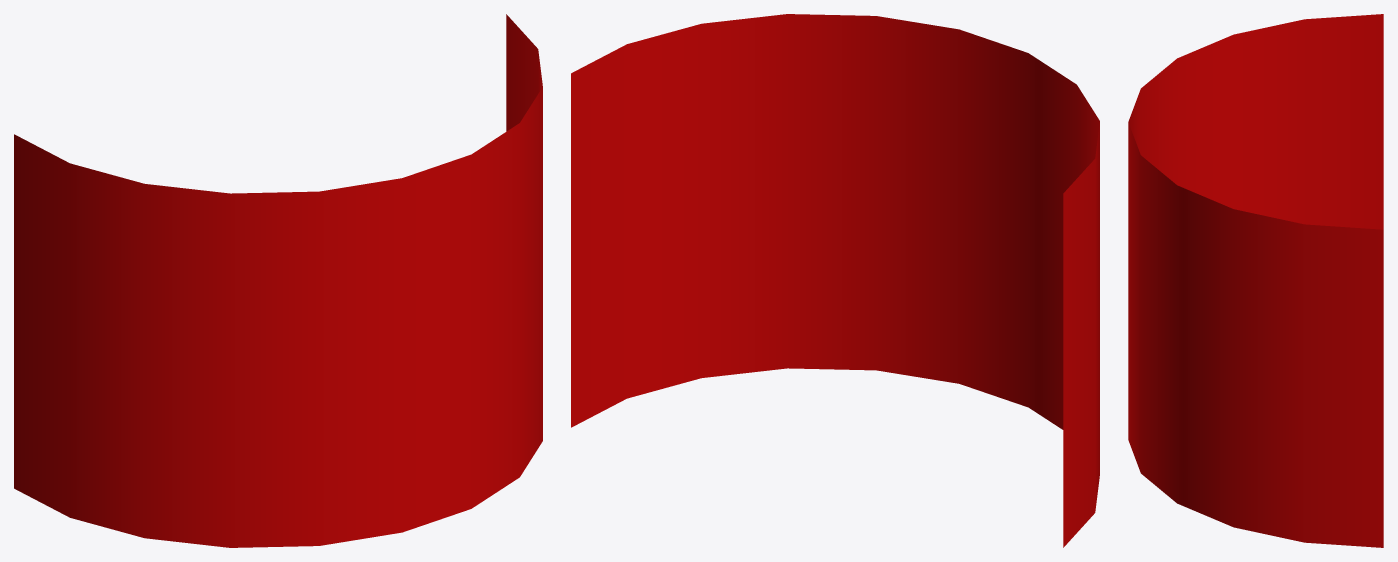
The model's file is Past_reflection.fbx.
The picture shows the model from 3 angles, left to right: view 1: azimuth 30°, elevation 25°; view 2: azimuth 150°, elevation 25°; view 3: azimuth 270°, elevation 25°; orthographic projection. The views are drawn at different scales.
Visible parts, largest first — view 1: Past_reflection; view 2: Past_reflection; view 3: Past_reflection.
Boxes of the visible parts, x1,y1,x2,y2 form: Past_reflection: [14, 14, 542, 547]; Past_reflection: [571, 14, 1099, 547]; Past_reflection: [1128, 14, 1383, 547].
Bounding box in the file's own units: 56.12 × 38.61 × 28.06.
